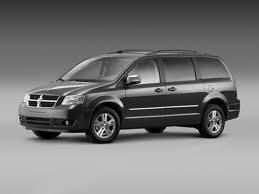car: (17, 49, 241, 145)
